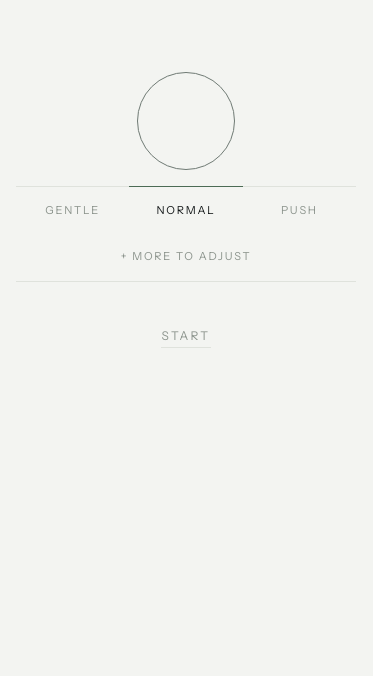
Test: ConversationView mic control (P2 placement) › badges the closed reveal link when access is denied
Step 1. Click the button "+ More to adjust" → coordinates (186, 256), box x1=121 y1=241 x2=251 y2=271
(page scrolled)
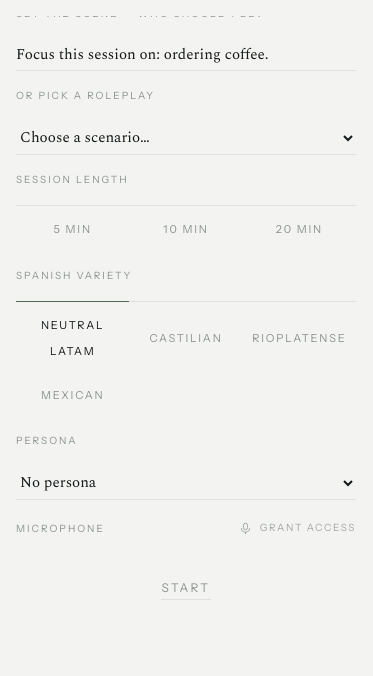
Step 2. Click the button "Grant access" → coordinates (297, 529), box x1=239 y1=512 x2=356 y2=546
(page scrolled)
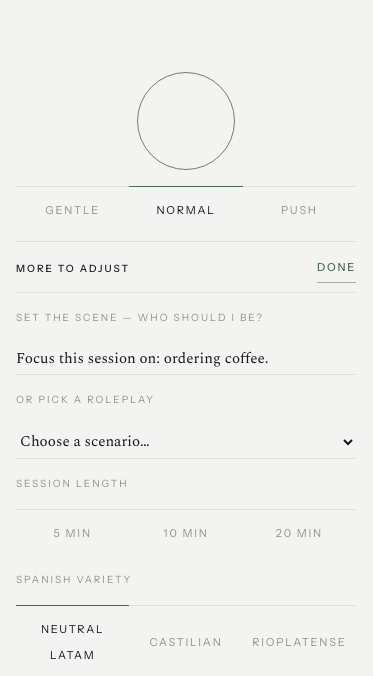
Step 3. Click the button "Done" → coordinates (336, 269), box x1=317 y1=254 x2=356 y2=283
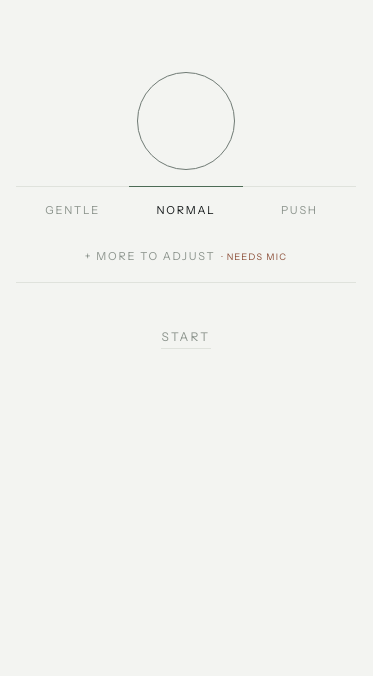
Check: the text "· Needs mic" is shown, box x1=221 y1=251 x2=287 y2=262
